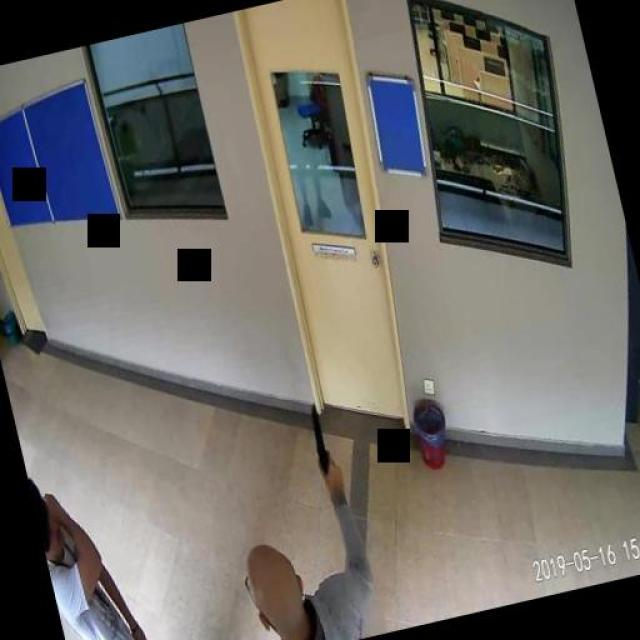gun: (304, 400, 342, 486)
